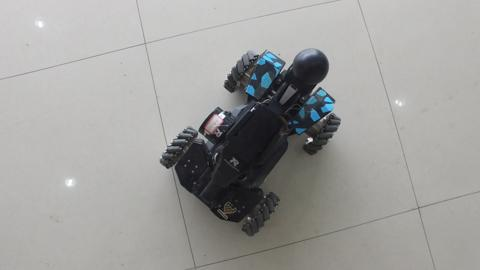chariot: (151, 37, 328, 232)
